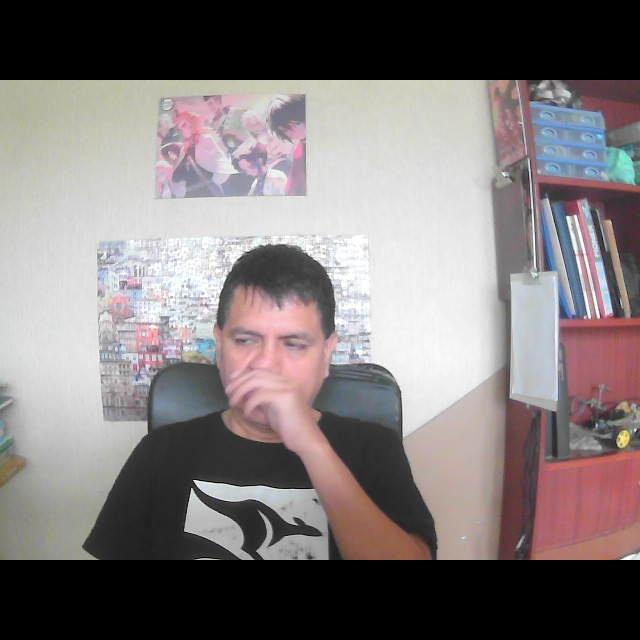cesar: (202, 232, 348, 453)
